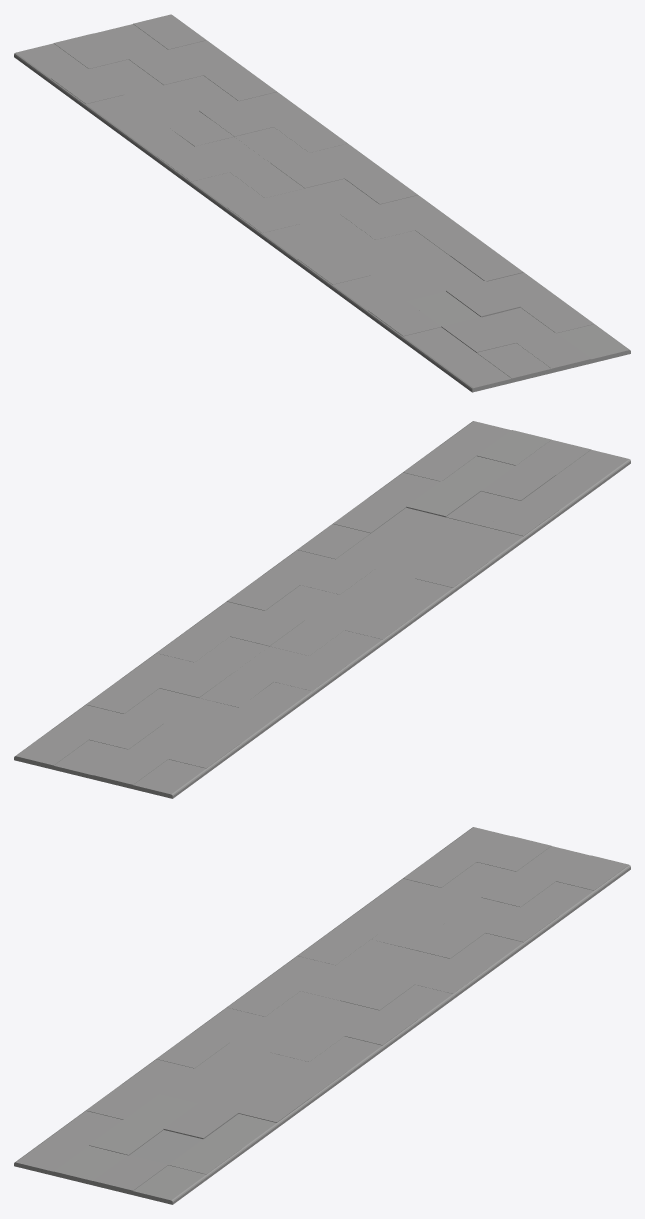
The model's file is Concrete.fbx.
The picture shows the model from 3 angles, top to bottom: view 1: azimuth 30°, elevation 25°; view 2: azimuth 150°, elevation 25°; view 3: azimuth 330°, elevation 25°; orthographic projection.
Visible parts, largest first — view 1: Plane; view 2: Plane; view 3: Plane.
Part boxes in pixels (x1,y1,x2,y2): Plane: (14,14,630,392); Plane: (14,421,630,798); Plane: (14,827,630,1204).
Size of the model in its own units: 10 by 0.3248 by 50.
